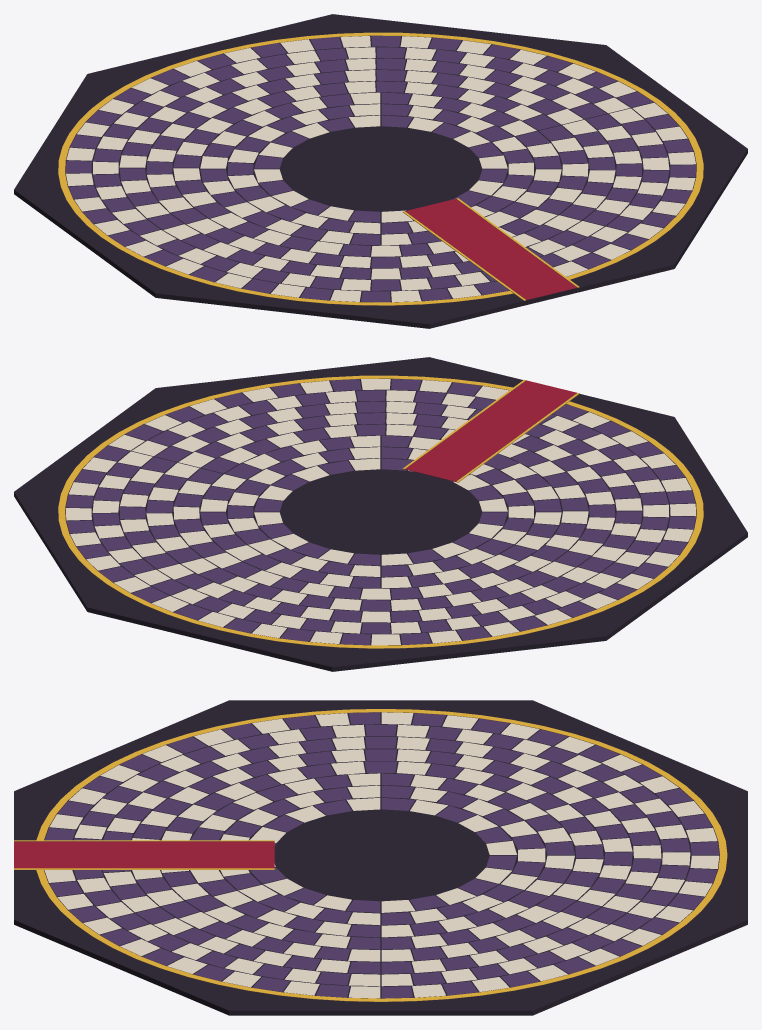
The model's file is crown_floor.glb.
The picture shows the model from 3 angles, top to bottom: view 1: azimuth 30°, elevation 25°; view 2: azimuth 150°, elevation 25°; view 3: azimuth 270°, elevation 25°; orthographic projection. The views are drawn at different scales.
Parts seen in each view (by area): view 1: crown_floor; view 2: crown_floor; view 3: crown_floor.
Part boxes in pixels (x1,y1,x2,y2): crown_floor: (14, 14, 747, 328); crown_floor: (14, 357, 747, 671); crown_floor: (14, 700, 747, 1015).
Size of the model in its own units: 19.7 by 0.164 by 19.7.
